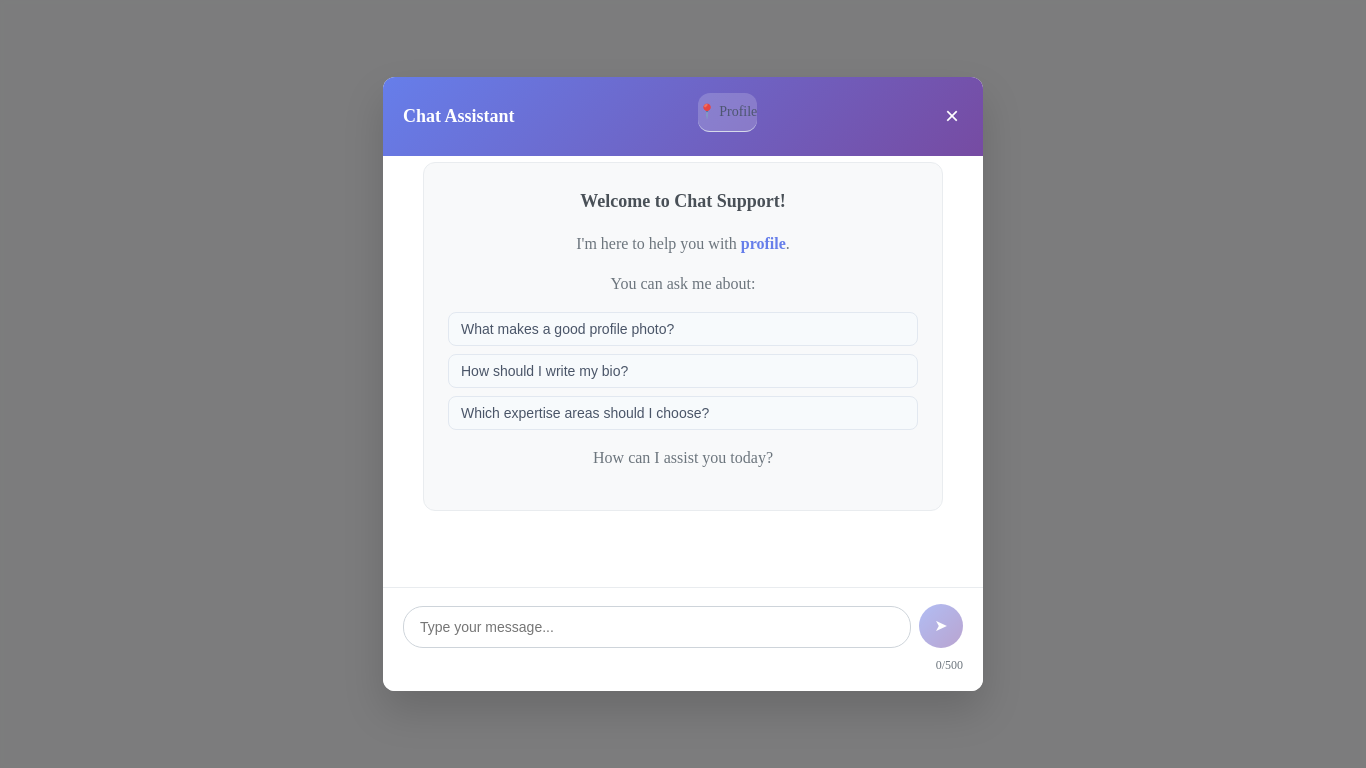
Test case: Chat Context Integration › Error Handling › should handle API errors gracefully
(page scrolled)
Type "Test message" into the field with placeholder "Type your message..." at (657, 627), box [403,606,911,648]
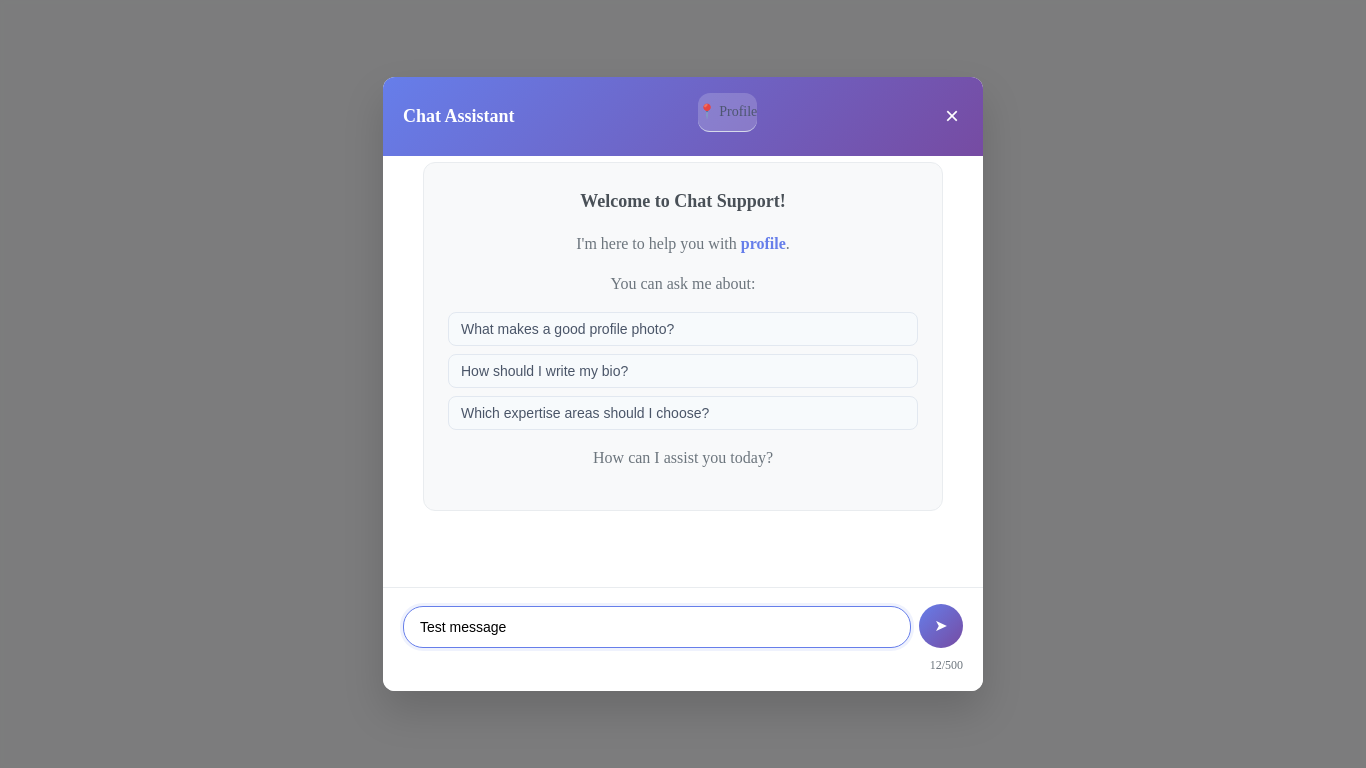
Click the button named "Send message" at (941, 626), box [919,604,963,648]
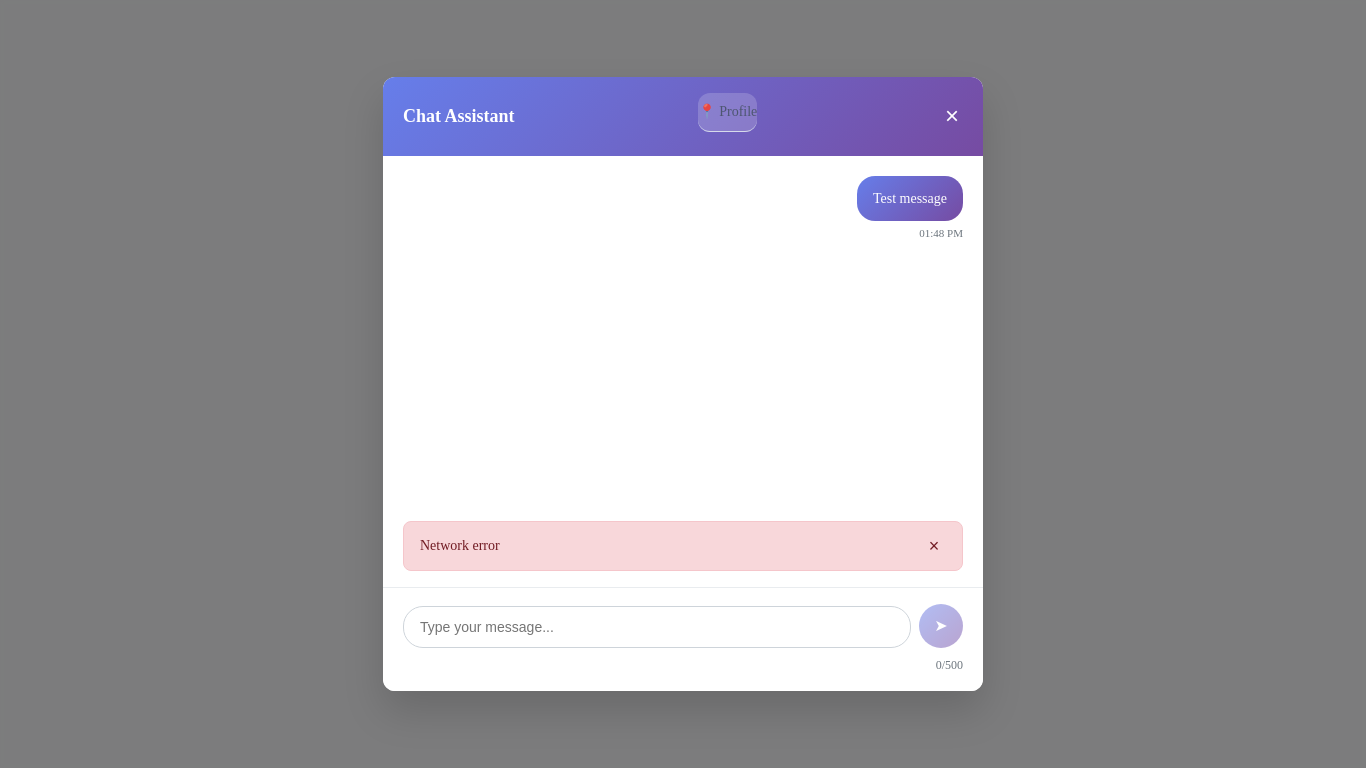
Expected: the text "Network error" is shown, [420,538,500,553]
